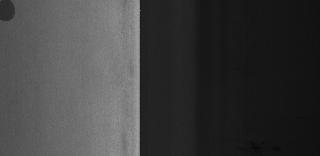oil spot: (1, 1, 26, 27)
